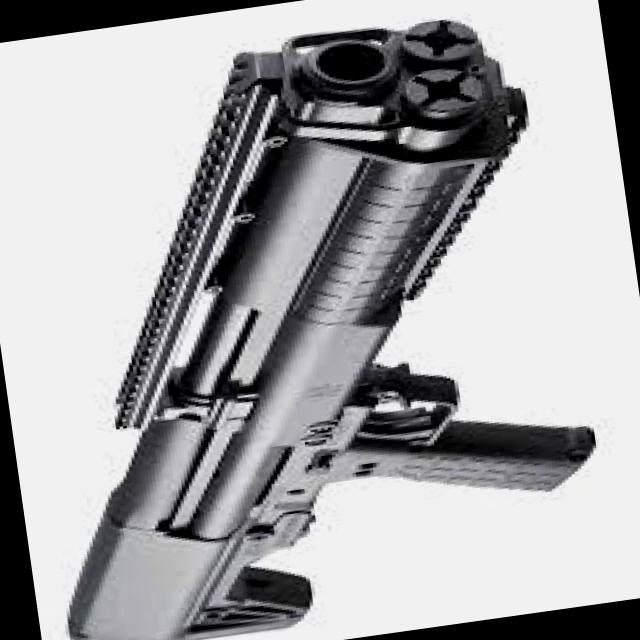long weapon: (61, 0, 602, 640)
